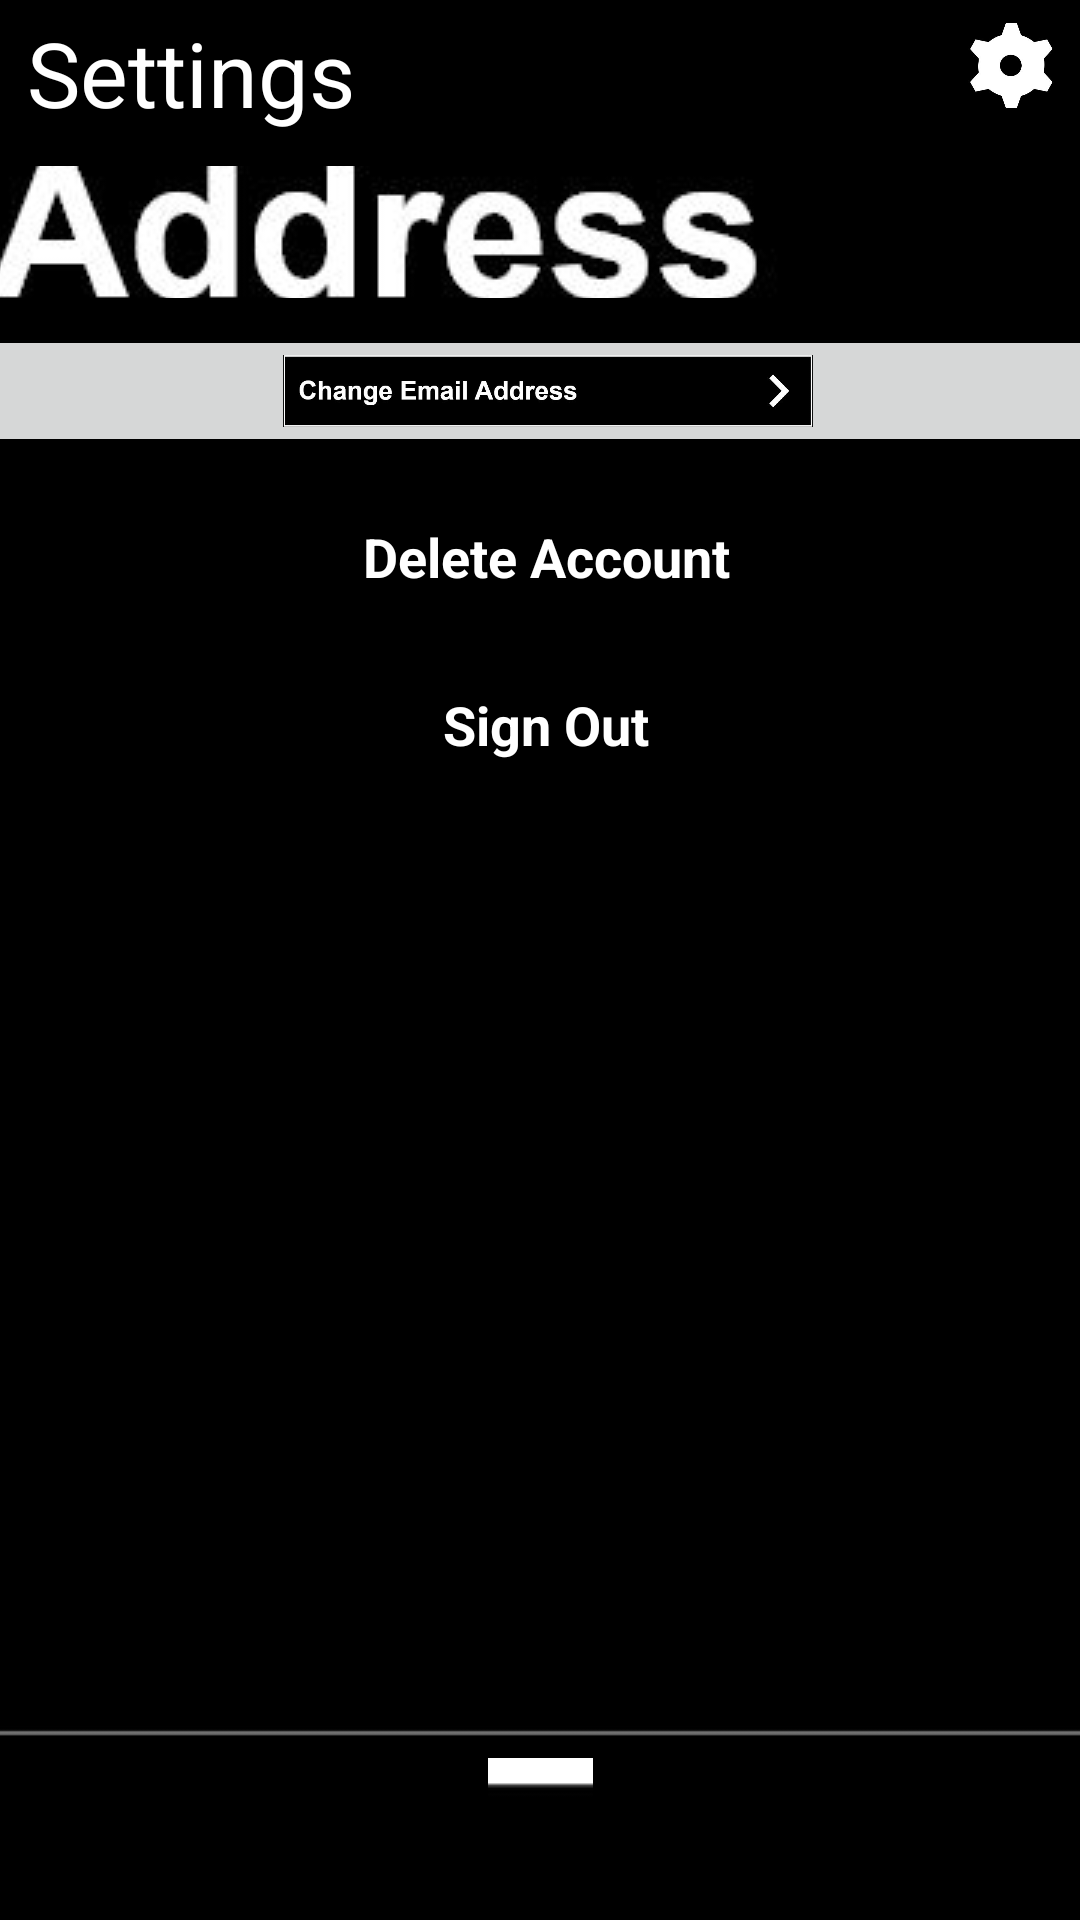

Named icons in this screenshot (1080w x 1920h) and their centers, point (x, y):
settings: point (1011, 65)
